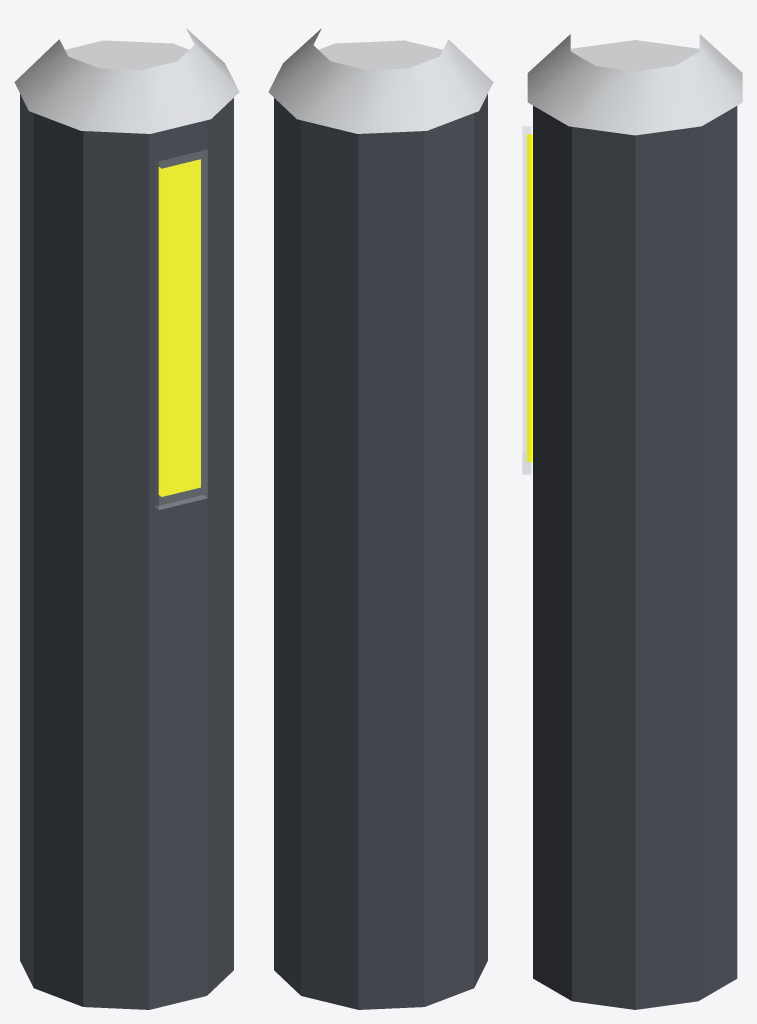
Rendered from ext_bollard_light_03.glb.
3 renders of one model, left to right at view 1: azimuth 30°, elevation 25°; view 2: azimuth 150°, elevation 25°; view 3: azimuth 270°, elevation 25°, orthographic.
Parts seen in each view (by area): view 1: Post, Slot_Glass, Cap, Light_Strip; view 2: Post, Cap; view 3: Post, Cap, Slot_Glass, Light_Strip.
Part boxes in pixels (x1,y1,x2,y2): Post: [20, 94, 233, 1009]; Slot_Glass: [155, 150, 207, 509]; Cap: [14, 28, 239, 133]; Light_Strip: [158, 159, 200, 496]; Post: [274, 94, 487, 1009]; Cap: [268, 28, 493, 133]; Post: [533, 105, 737, 1009]; Cap: [527, 34, 742, 135]; Slot_Glass: [522, 126, 530, 474]; Light_Strip: [526, 134, 532, 461].
Size of the model in its own units: 0.2 by 0.9 by 0.1951.
